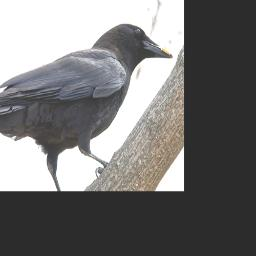Crow: (0, 23, 173, 191)
